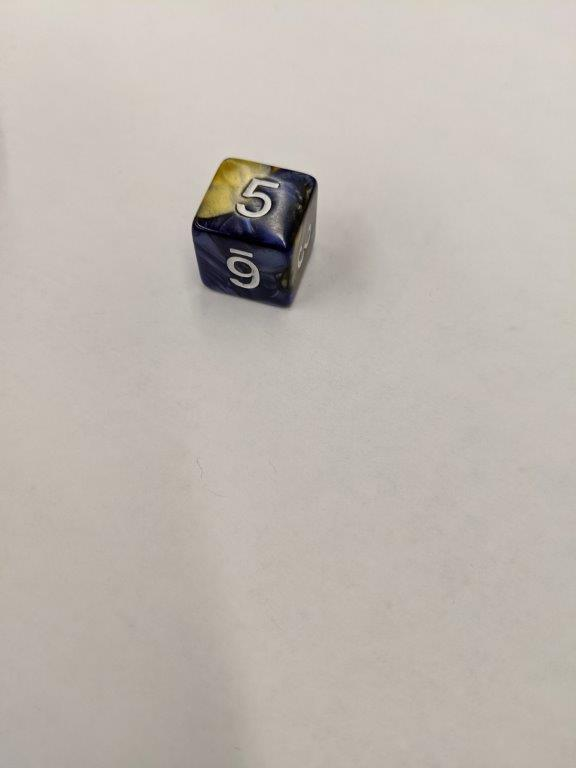d6-5: (192, 158, 320, 308)
